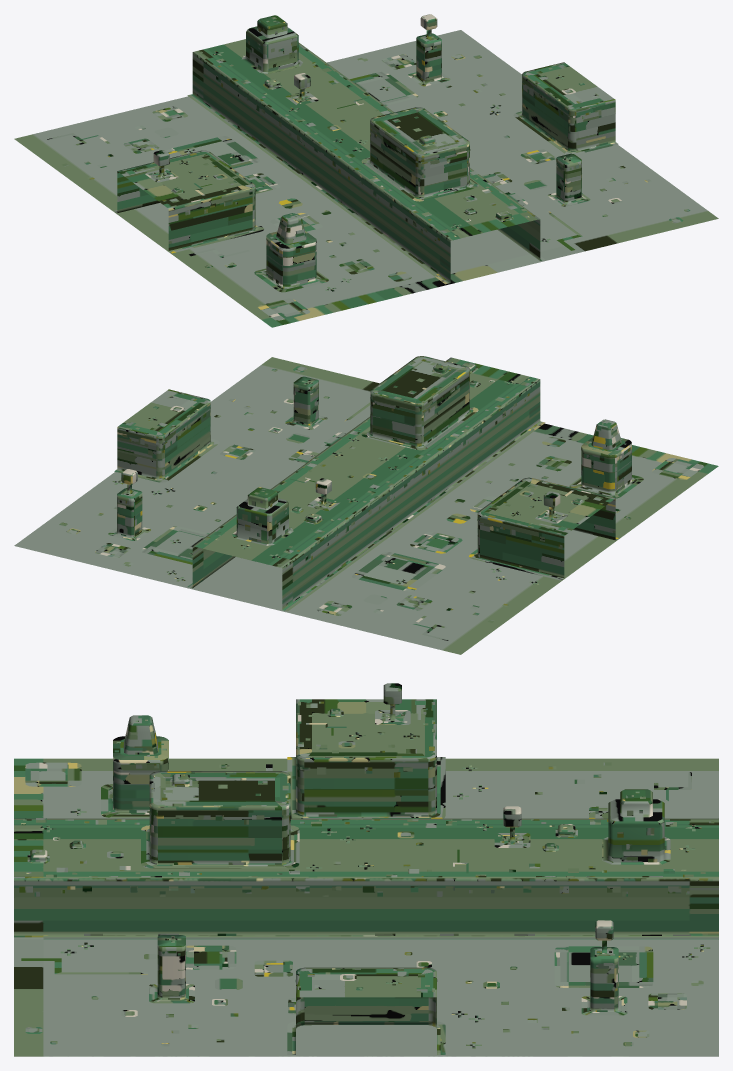
File: C_cave2_04.fbx
The picture shows the model from 3 angles, top to bottom: view 1: azimuth 30°, elevation 25°; view 2: azimuth 150°, elevation 25°; view 3: azimuth 270°, elevation 25°; orthographic projection. The views are drawn at different scales.
Visible parts, largest first — view 1: C_cave2_04.001; view 2: C_cave2_04.001; view 3: C_cave2_04.001.
Boxes of the visible parts, bbox=[...] form: C_cave2_04.001: bbox=[14, 14, 718, 327]; C_cave2_04.001: bbox=[14, 356, 718, 654]; C_cave2_04.001: bbox=[14, 683, 718, 1056].
Bounding box in the file's own units: 50 × 9.88 × 50.
